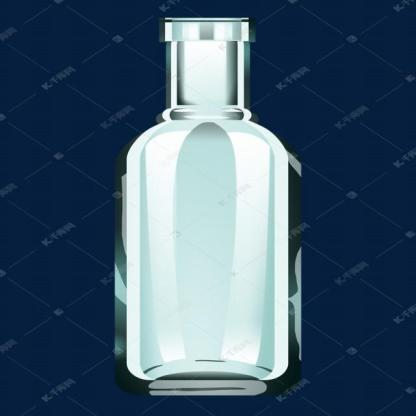Can: (113, 15, 304, 398)
